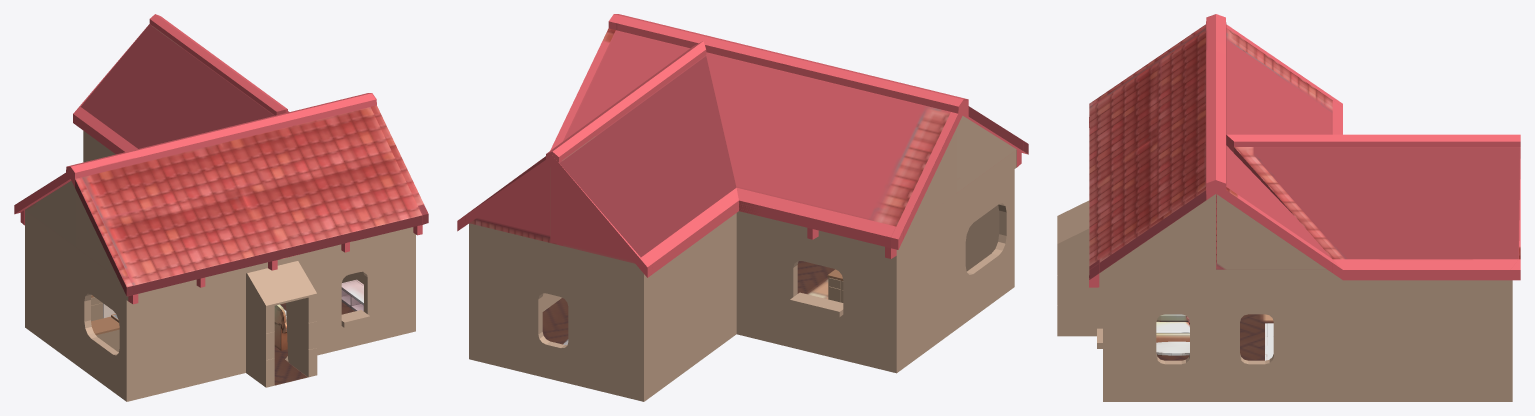
File: testcube.glb
3 renders of one model, left to right at view 1: azimuth 30°, elevation 25°; view 2: azimuth 150°, elevation 25°; view 3: azimuth 270°, elevation 25°, orthographic. The views are drawn at different scales.
Parts seen in each view (by area): view 1: Plane, small counter.001, tv stand, sofa; view 2: Plane; view 3: Plane, sofa, cofeetable.
Boxes of the visible parts, left/top/right/bottom form: Plane: left=14, top=14, right=428, bottom=401; small counter.001: left=91, top=316, right=119, bottom=352; tv stand: left=341, top=279, right=363, bottom=311; sofa: left=274, top=304, right=287, bottom=350; Plane: left=457, top=14, right=1028, bottom=401; Plane: left=1057, top=14, right=1520, bottom=401; sofa: left=1156, top=314, right=1189, bottom=342; cofeetable: left=1156, top=341, right=1189, bottom=355.
Size of the model in its own units: 7.25 by 4.61 by 8.55.
Materials: 14 (7 with a texture image).
